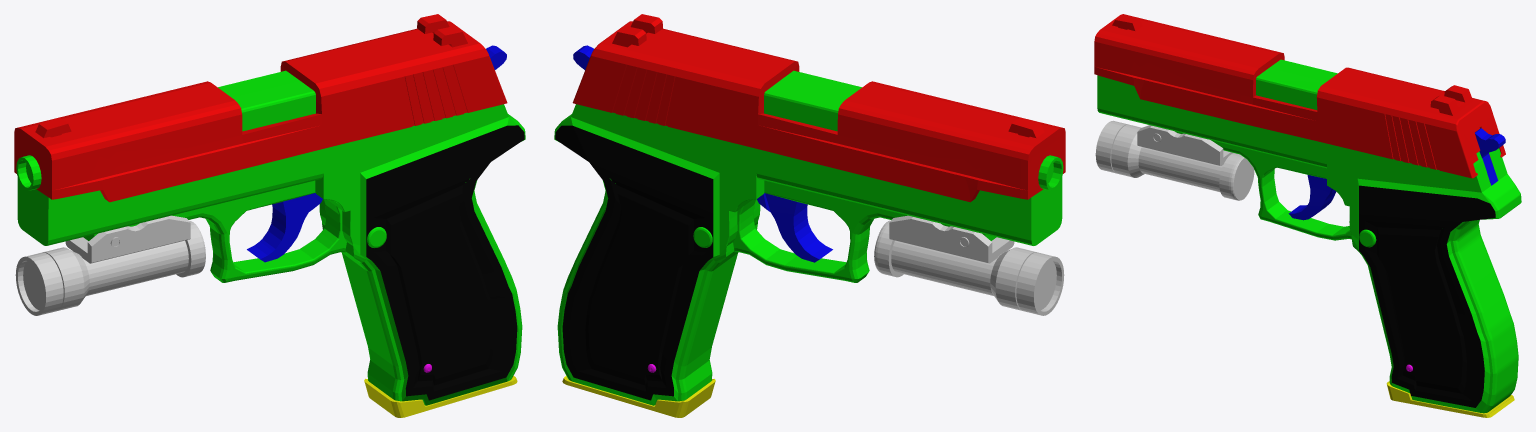
File: Gun torchlight.fbx
3 views of the same model, side by side, from view 1: azimuth 30°, elevation 25°; view 2: azimuth 150°, elevation 25°; view 3: azimuth 330°, elevation 25° (orthographic). The views are drawn at different scales.
Visible parts, largest first — view 1: Receiver_hi, Slide_hi, Cube, Trigger_hi, Magazine_hi; view 2: Receiver_hi, Slide_hi, Cube, Trigger_hi, Magazine_hi; view 3: Receiver_hi, Slide_hi, Cube, Trigger_hi, Magazine_hi, Hammer_hi.
Boxes of the visible parts, <box> form: Receiver_hi: <box>16,70,525,405</box>; Slide_hi: <box>14,14,507,202</box>; Cube: <box>15,215,205,315</box>; Trigger_hi: <box>247,193,322,262</box>; Magazine_hi: <box>364,375,517,417</box>; Receiver_hi: <box>554,70,1063,405</box>; Slide_hi: <box>572,14,1065,202</box>; Cube: <box>874,215,1064,315</box>; Trigger_hi: <box>757,193,832,262</box>; Magazine_hi: <box>562,375,715,417</box>; Receiver_hi: <box>1097,59,1521,413</box>; Slide_hi: <box>1094,14,1505,178</box>; Cube: <box>1095,120,1254,200</box>; Trigger_hi: <box>1288,174,1336,220</box>; Magazine_hi: <box>1386,381,1514,417</box>; Hammer_hi: <box>1475,128,1505,185</box>.
Bounding box in the file's own units: 924 × 667 × 135.
